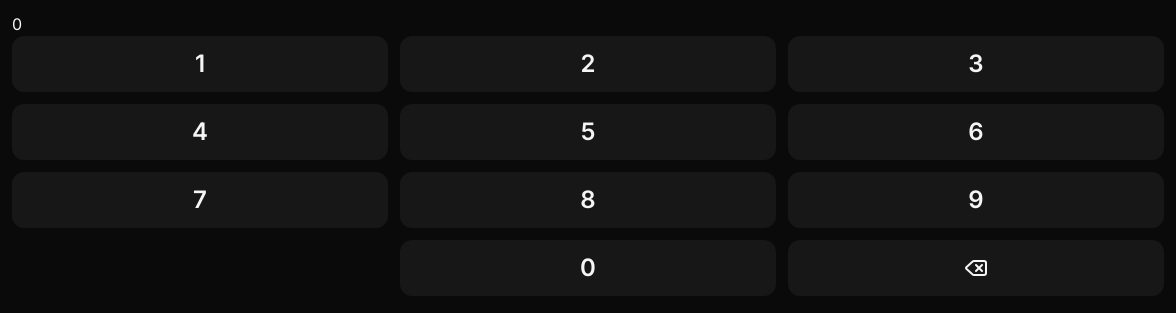
AmountKeypad › appends digits
This screenshot has width=1176, height=313.
Click the button named "Enter 1": (200, 64) [12,36,388,92]
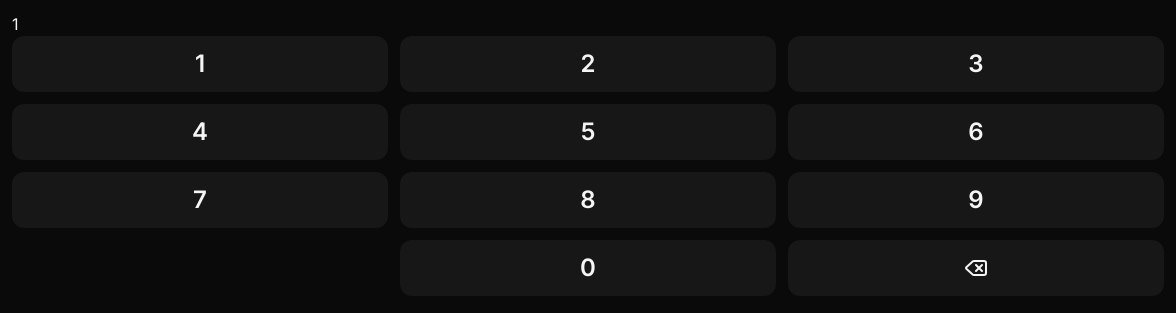
Click the button named "Enter 2": (588, 64) [400,36,776,92]
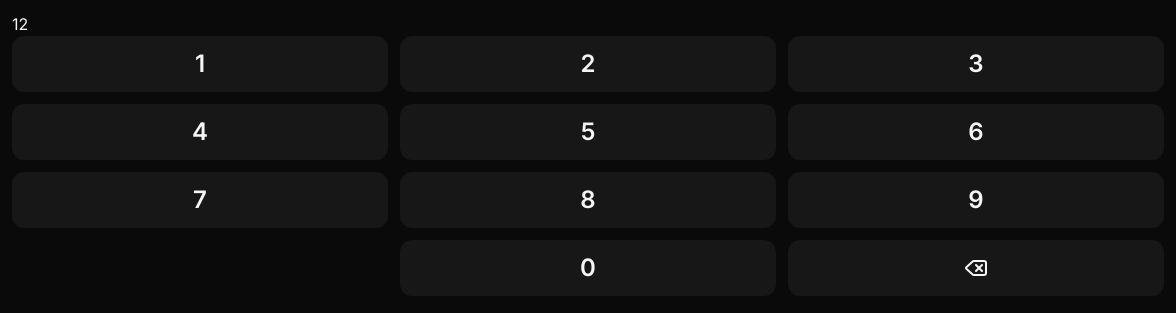
Click the button named "Enter 3": (976, 64) [788,36,1164,92]
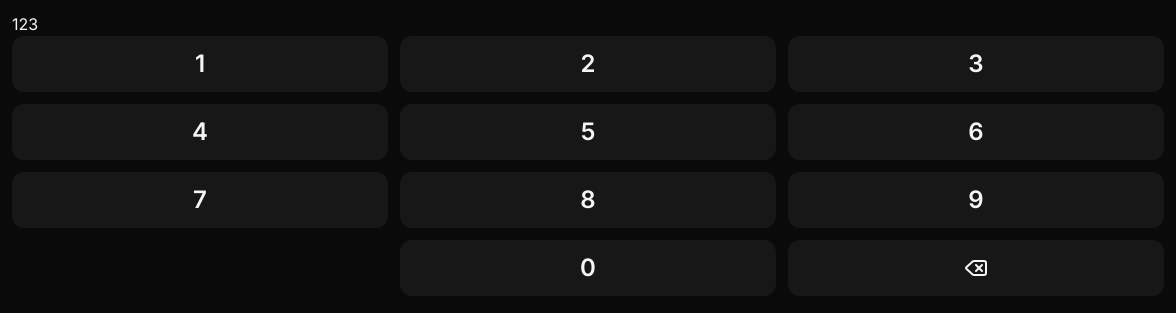
Now the text with test id "value" reads "123", box [12,14,38,34]
